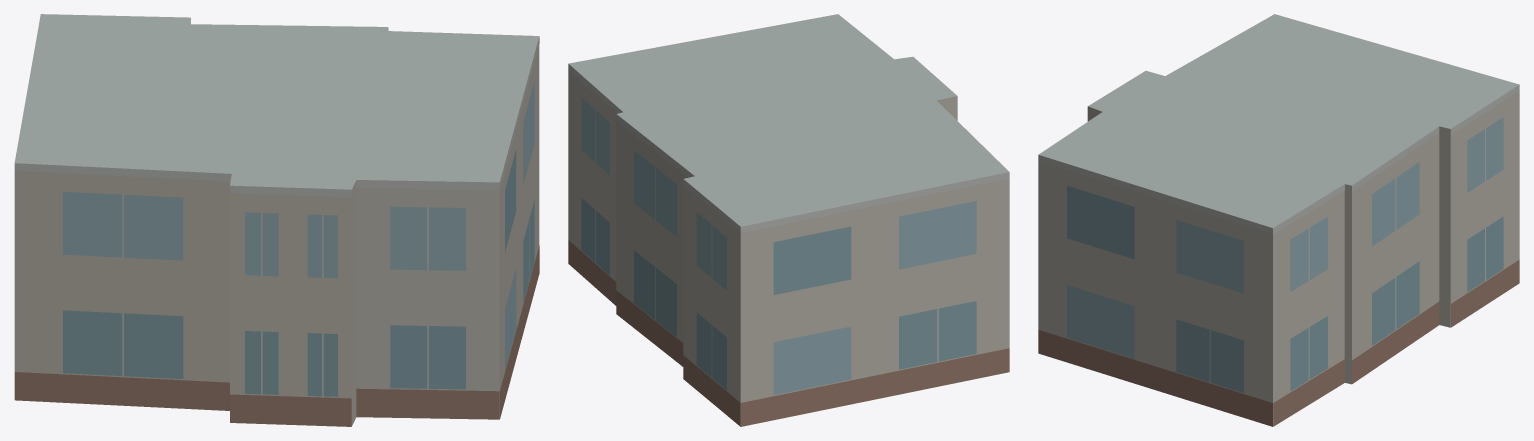
Rendered from survey-upis-32631970.glb.
3 views of the same model, side by side, from view 1: azimuth 30°, elevation 25°; view 2: azimuth 150°, elevation 25°; view 3: azimuth 270°, elevation 25° (orthographic). The views are drawn at different scales.
Visible parts, largest first — view 1: survey-upis-32631970.tmp; view 2: survey-upis-32631970.tmp; view 3: survey-upis-32631970.tmp.
Part boxes in pixels (<box>): survey-upis-32631970.tmp: <box>14,14,539,426</box>; survey-upis-32631970.tmp: <box>568,14,1009,426</box>; survey-upis-32631970.tmp: <box>1038,14,1519,426</box>.
Bounding box in the file's own units: 17.81 × 7.7 × 16.91.
